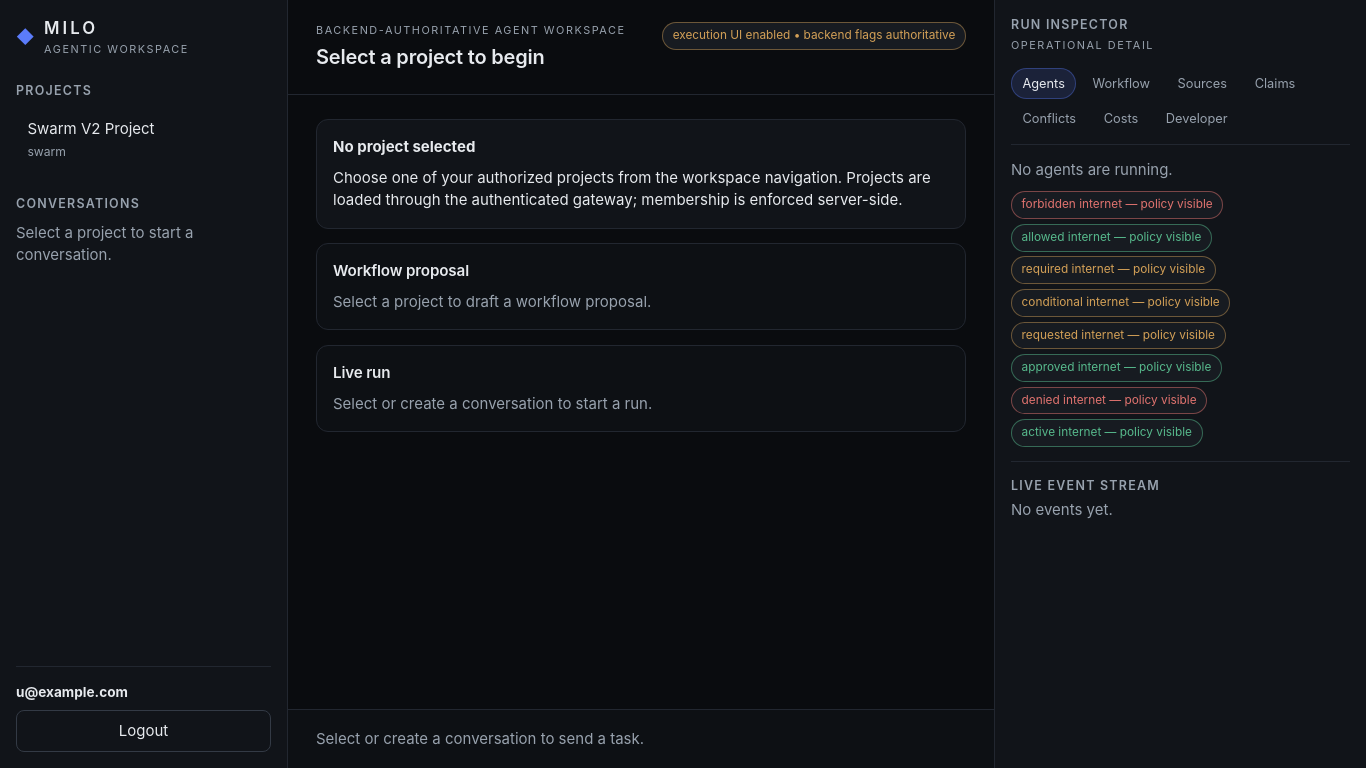
result-surface routing › 4. the execution surface and the product surface are both present and stay separate
Click the text "Swarm V2 Project".
click(91, 128)  # box [27,119,154,138]
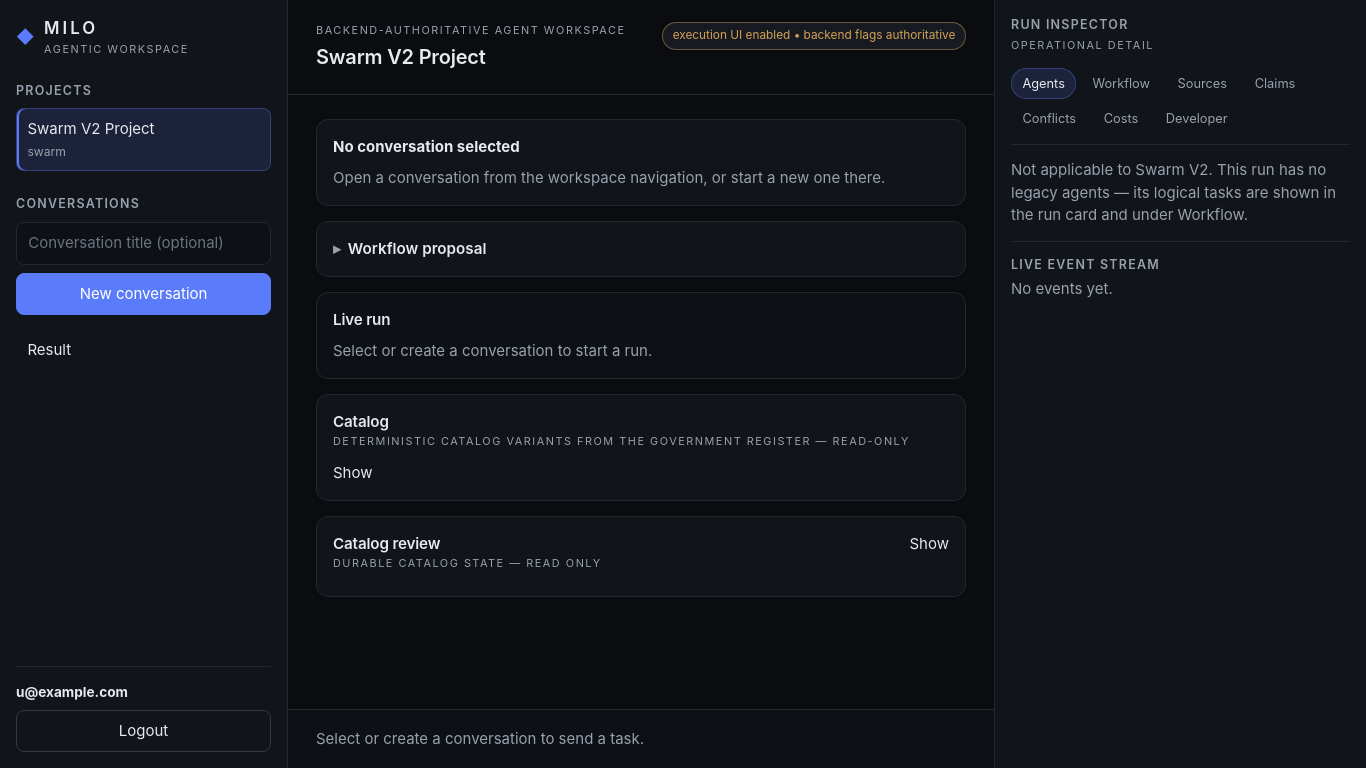
Click the button "Result".
click(144, 350)  # box [16,329,271,371]
(page scrolled)
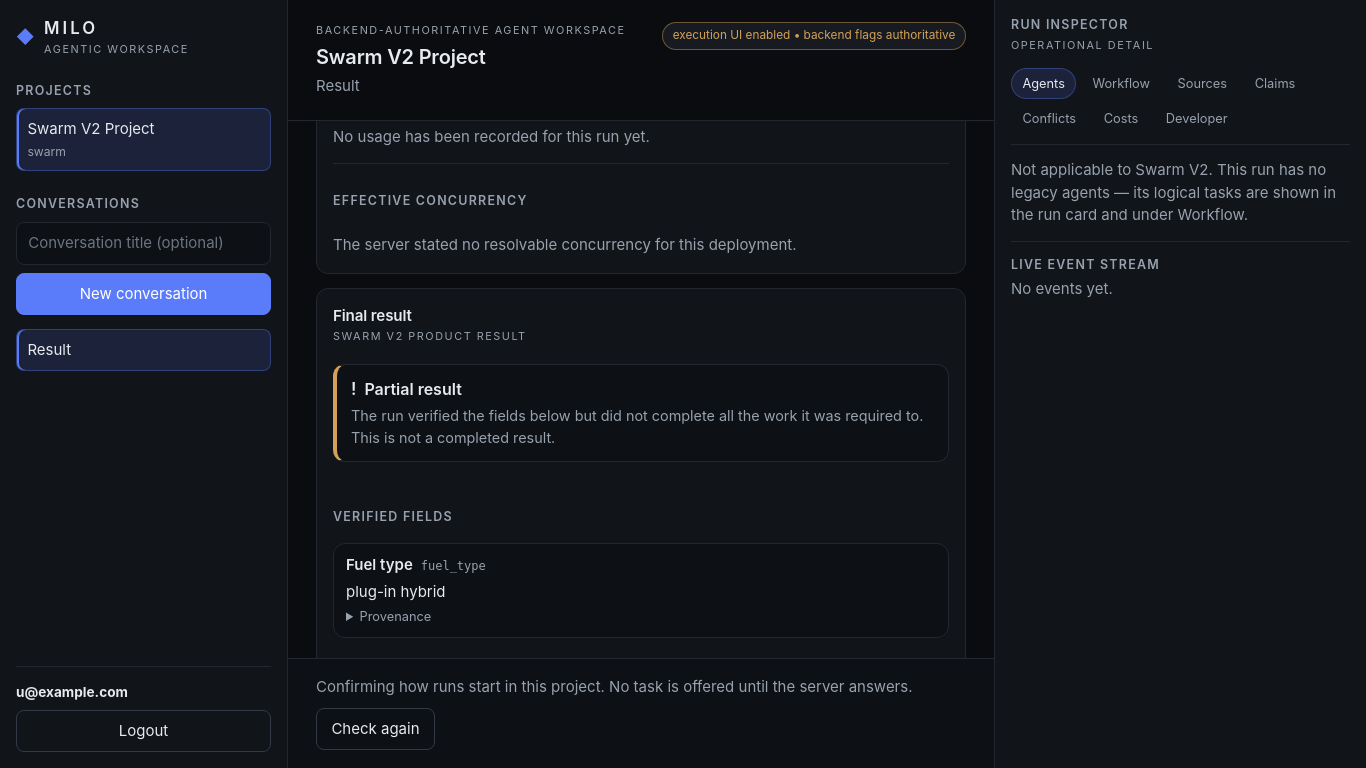
Expected: the element "Swarm run" does not show "Verified fields"
Result: the text "Partial result" is shown at [364,377,462,401]
